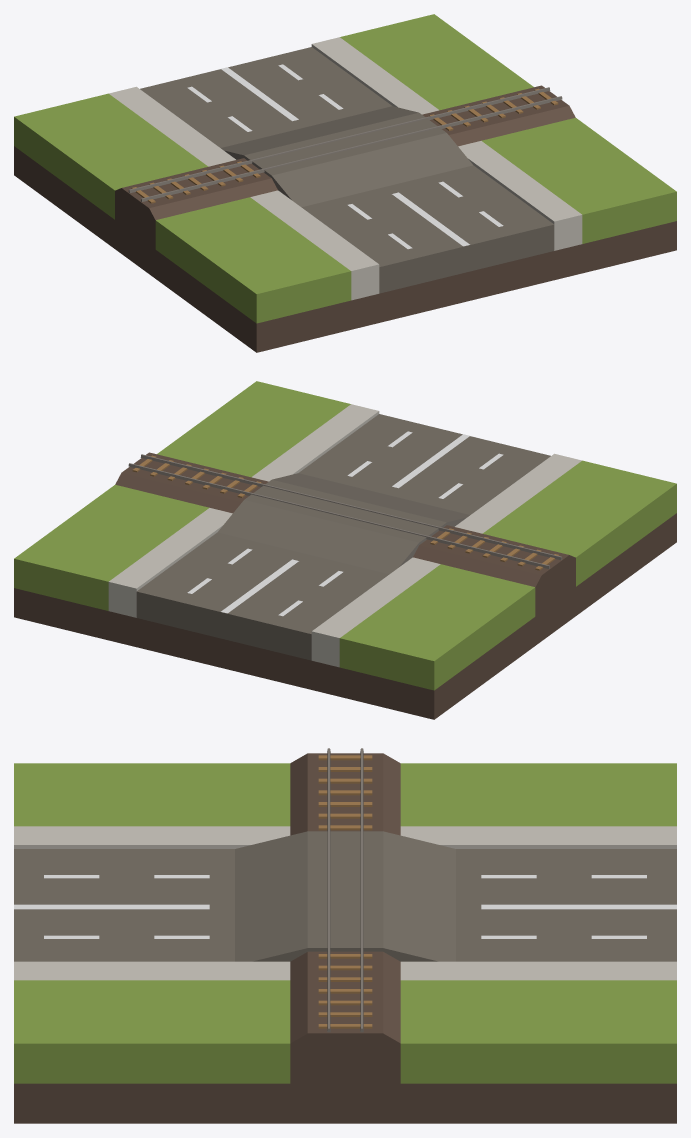
File: mainroad-tile-rail-crossing.fbx
The picture shows the model from 3 angles, top to bottom: view 1: azimuth 30°, elevation 25°; view 2: azimuth 150°, elevation 25°; view 3: azimuth 270°, elevation 25°; orthographic projection. The views are drawn at different scales.
Parts seen in each view (by area): view 1: mainroad-tile-rail-crossing; view 2: mainroad-tile-rail-crossing; view 3: mainroad-tile-rail-crossing.
Part boxes in pixels (bbox=[...]): mainroad-tile-rail-crossing: bbox=[14, 14, 676, 352]; mainroad-tile-rail-crossing: bbox=[14, 381, 676, 719]; mainroad-tile-rail-crossing: bbox=[14, 748, 676, 1123].
Bounding box in the file's own units: 3000 × 3000 × 475.
